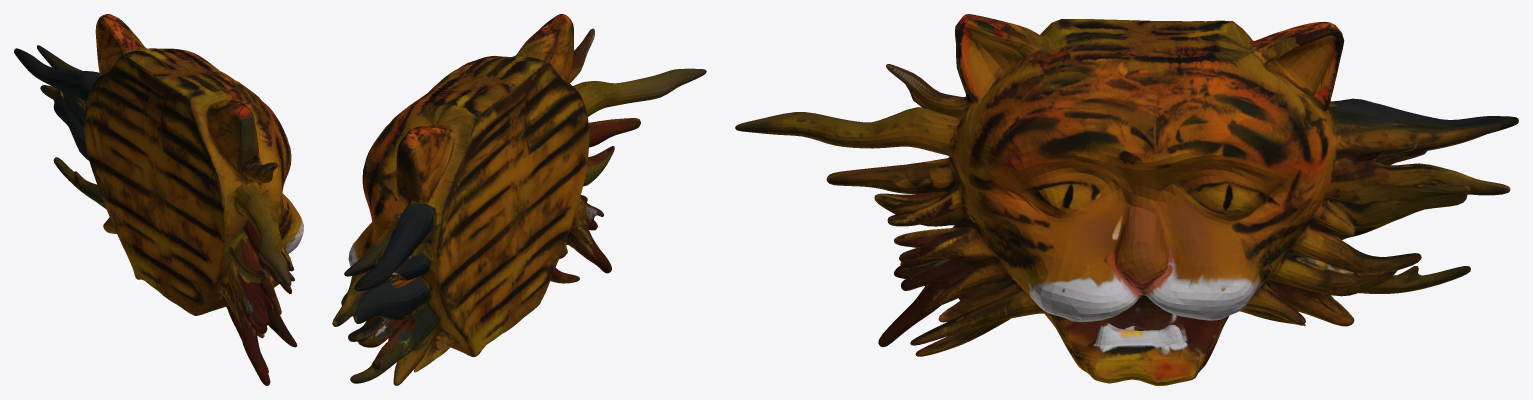
The picture shows the model from 3 angles, left to right: view 1: azimuth 30°, elevation 25°; view 2: azimuth 150°, elevation 25°; view 3: azimuth 270°, elevation 25°; orthographic projection. The views are drawn at different scales.
Parts seen in each view (by area): view 1: tripo_node_01852976-caa0-42cb-b794-11e17c2d74d8; view 2: tripo_node_01852976-caa0-42cb-b794-11e17c2d74d8; view 3: tripo_node_01852976-caa0-42cb-b794-11e17c2d74d8.
Part boxes in pixels (x1=…): tripo_node_01852976-caa0-42cb-b794-11e17c2d74d8: x1=14, y1=14, x2=303, y2=385; tripo_node_01852976-caa0-42cb-b794-11e17c2d74d8: x1=332, y1=14, x2=706, y2=385; tripo_node_01852976-caa0-42cb-b794-11e17c2d74d8: x1=735, y1=14, x2=1518, y2=385.
Size of the model in its own units: 0.2758 by 0.4761 by 1.
1 material, 1 textured.
